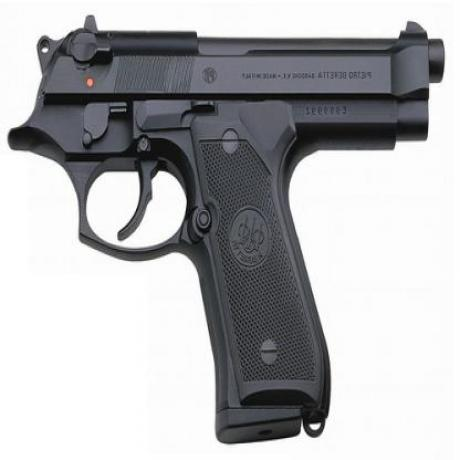weapon: (0, 13, 453, 444)
